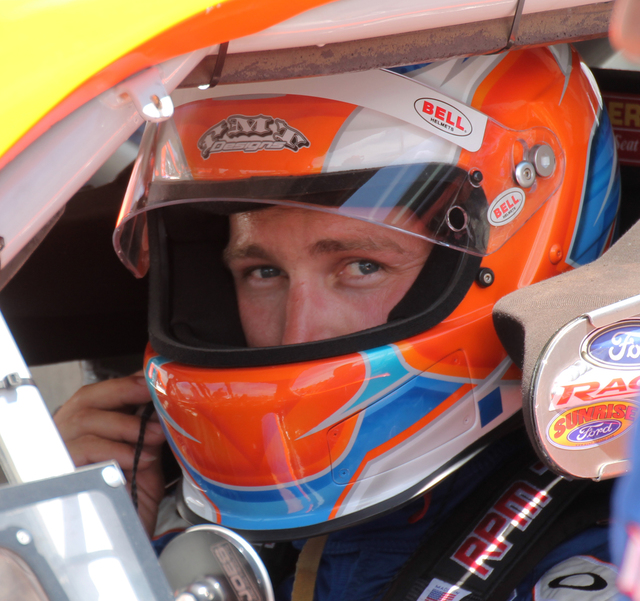helmet: (143, 49, 619, 491)
